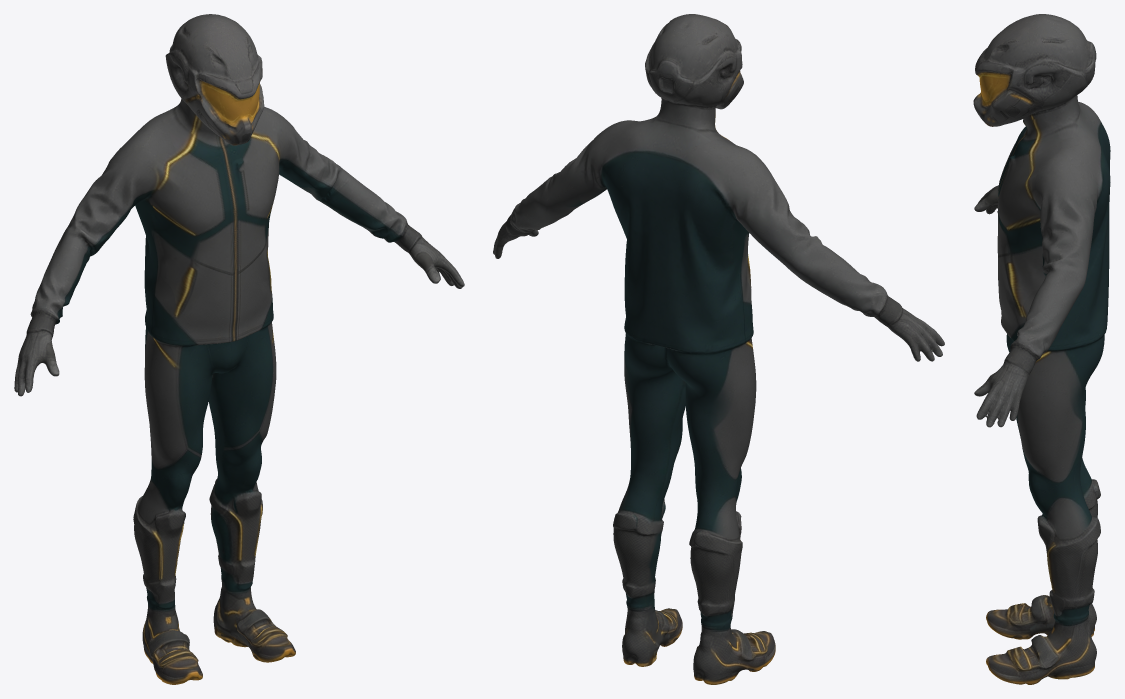
Rendered from Meshy_AI_Neon_Sentinel_1024171049_texture.glb.
3 views of the same model, side by side, from view 1: azimuth 30°, elevation 25°; view 2: azimuth 150°, elevation 25°; view 3: azimuth 270°, elevation 25° (orthographic).
Size of the model in its own units: 1.37 by 1.9 by 0.3692.
Materials: 1 (1 with a texture image).
